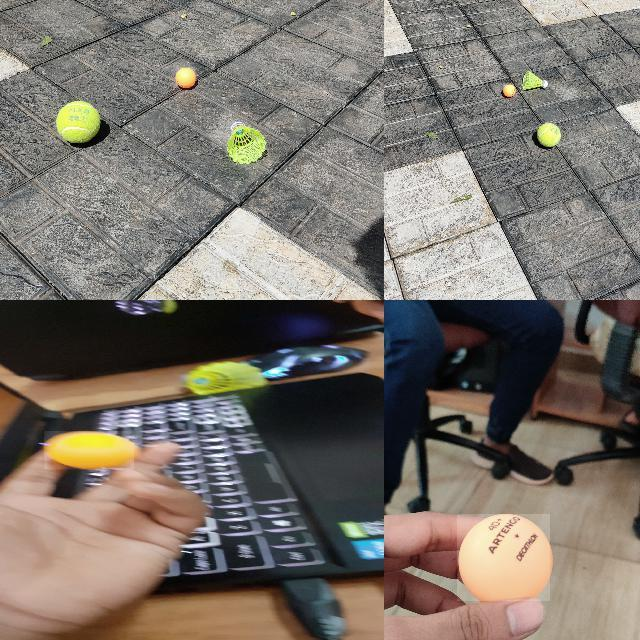ping-pong-ball: (457, 514, 551, 602), (44, 431, 136, 470), (176, 67, 196, 87), (503, 83, 515, 97)
